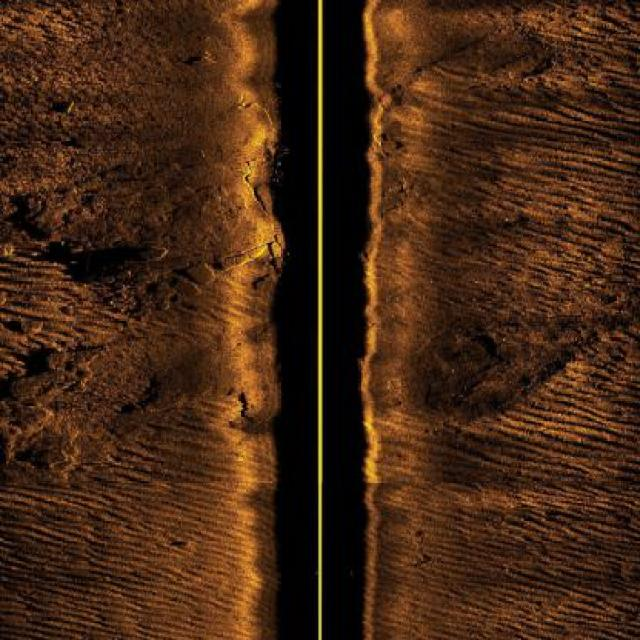mine: (47, 98, 76, 117), (165, 538, 193, 548)
